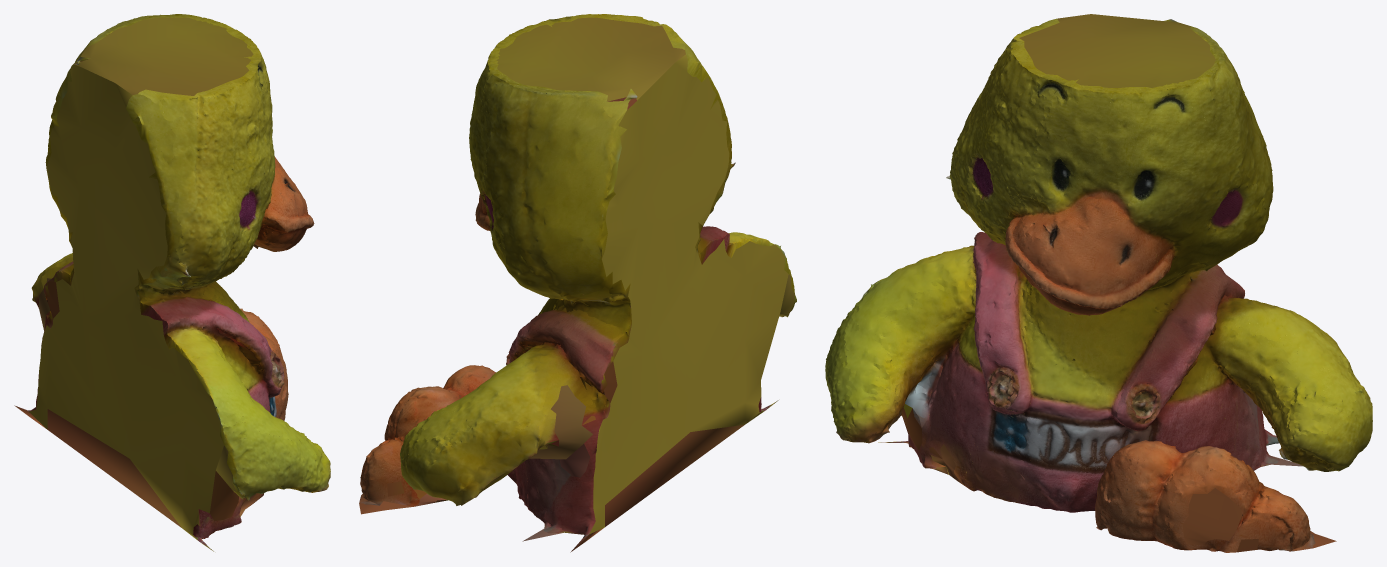
File: asset.glb
3 renders of one model, left to right at view 1: azimuth 30°, elevation 25°; view 2: azimuth 150°, elevation 25°; view 3: azimuth 270°, elevation 25°, orthographic. The views are drawn at different scales.
Parts seen in each view (by area): view 1: Mesh_0; view 2: Mesh_0; view 3: Mesh_0.
Part boxes in pixels (x1=…): Mesh_0: x1=14, y1=14, x2=330, y2=551; Mesh_0: x1=359, y1=14, x2=796, y2=552; Mesh_0: x1=825, y1=14, x2=1372, y2=552.
Size of the model in its own units: 0.1366 by 0.2466 by 0.2848.
1 material, 1 textured.
